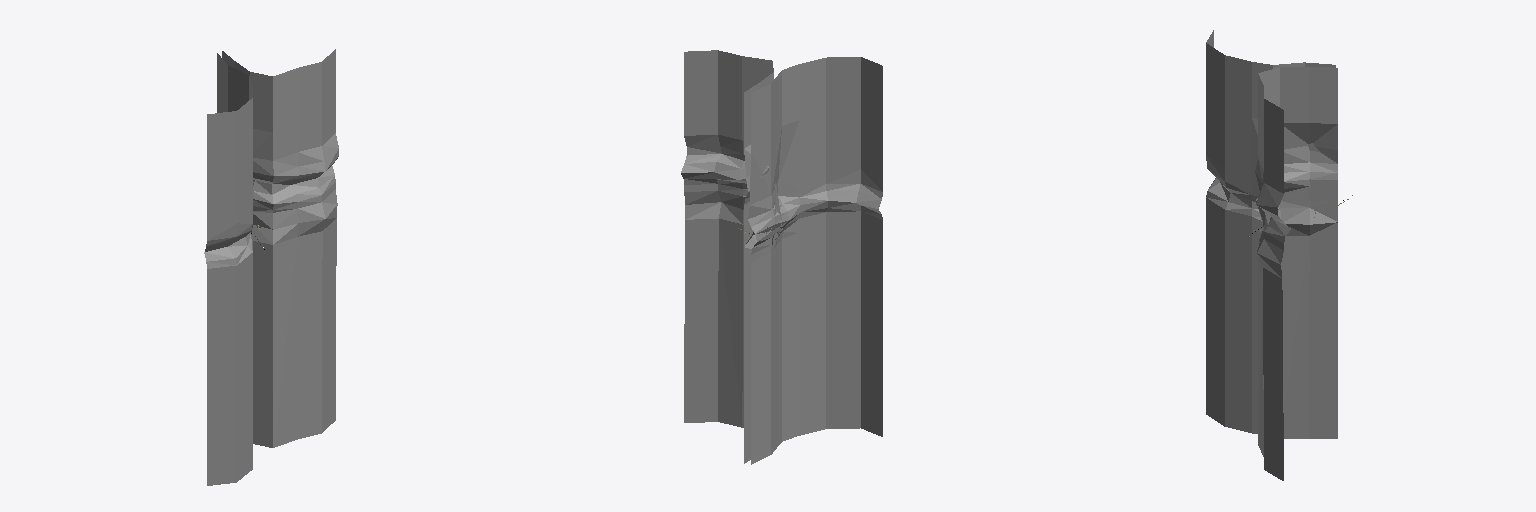
3 views of the same model, side by side, from view 1: azimuth 30°, elevation 25°; view 2: azimuth 150°, elevation 25°; view 3: azimuth 270°, elevation 25° (orthographic).
Parts seen in each view (by area): view 1: Object_2; view 2: Object_2; view 3: Object_2.
Part boxes in pixels (bbox=[...]): Object_2: bbox=[204, 49, 338, 485]; Object_2: bbox=[681, 50, 882, 464]; Object_2: bbox=[1206, 30, 1352, 480].
Bounding box in the file's own units: 11397 × 24626 × 8880.
Materials: 8 (3 with a texture image).